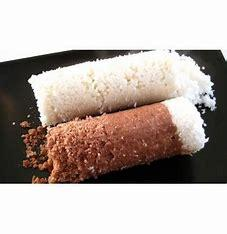Pittu: (18, 43, 216, 184)
